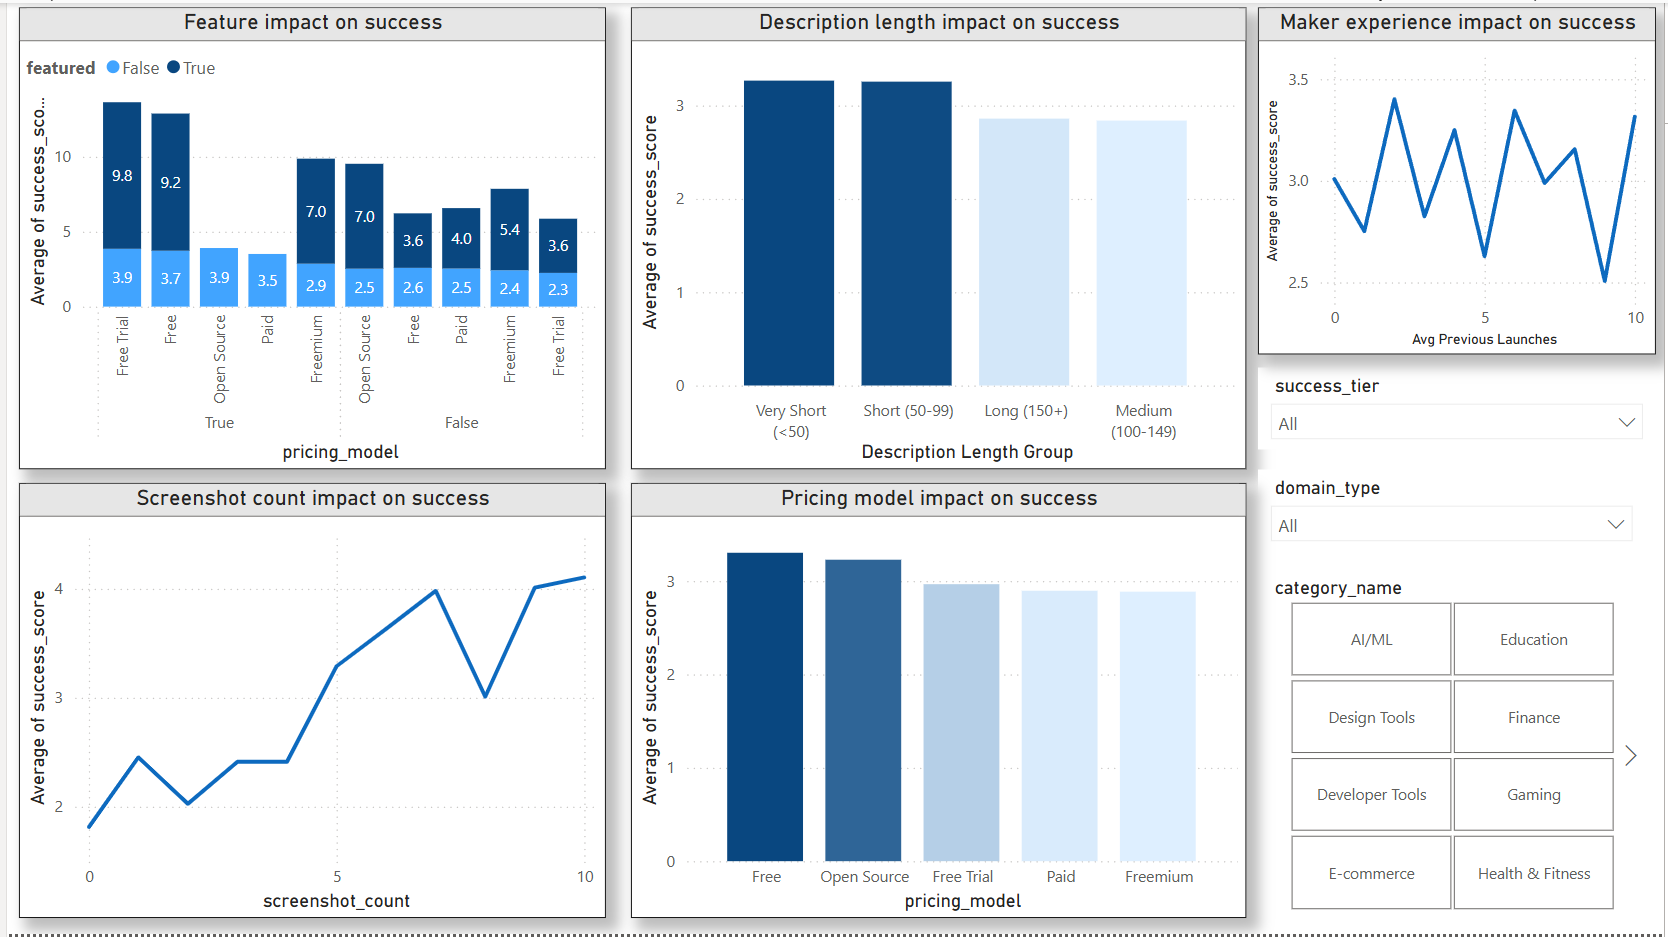

What the dashboard file says about the page in this screenshot:
{"tool":"powerbi","page":{"name":"CRITICAL SUCCESS FACTOR","canvas":[1280,720],"ordinal":2},"visuals":[{"type":"columnChart","title":"Feature impact on success","fields":{"Category":["success_factor.has_video","success_factor.pricing_model"],"Y":["Avg(success_factor.success_score)"],"Series":["success_factor.featured"]},"box":[9.3,3.5,453.1,356.9],"z":0},{"type":"clusteredColumnChart","title":"Description length impact on success","fields":{"Category":["success_factor.Description Length Group"],"Y":["Avg(success_factor.success_score)"]},"box":[482,3.5,475.1,356.9],"z":1000},{"type":"lineChart","title":"Screenshot count impact on success","fields":{"Y":["Avg(success_factor.success_score)"],"Category":["success_factor.screenshot_count"]},"box":[9.3,370.8,453.1,336],"z":2000},{"type":"slicer","fields":{"Values":["success_factor.category_name"]},"box":[966.6,437.8,299.1,58.6],"z":3000},{"type":"slicer","fields":{"Values":["success_factor.success_tier"]},"box":[966.6,281.1,307.4,63.4],"z":4000},{"type":"slicer","fields":{"Values":["success_factor.domain_type"]},"box":[966.6,360.1,299.1,55],"z":5000},{"type":"clusteredColumnChart","title":"Pricing model impact on success","fields":{"Category":["success_factor.pricing_model"],"Y":["Avg(success_factor.success_score)"]},"box":[482,370.8,475.1,336],"z":6000},{"type":"lineChart","title":"Maker experience impact on success","fields":{"Category":["maker_impact.Avg Previous Launches"],"Y":["Avg(maker_impact.success_score)"]},"box":[966.6,3.6,307.4,268],"z":7000},{"type":"textbox","box":[967,497,299,210],"z":8000}]}

Visuals, with their boxes in screenshot pixels (x1, y1, x2, y2), scaled from the page's 1280x720 canvas onto the 1668x937 screenshot:
"Feature impact on success" columnChart: locate(12, 5, 603, 469)
"Description length impact on success" clusteredColumnChart: locate(628, 5, 1247, 469)
"Screenshot count impact on success" lineChart: locate(12, 483, 603, 920)
slicer - success_factor.category_name: locate(1260, 570, 1649, 646)
slicer - success_factor.success_tier: locate(1260, 366, 1660, 448)
slicer - success_factor.domain_type: locate(1260, 469, 1649, 540)
"Pricing model impact on success" clusteredColumnChart: locate(628, 483, 1247, 920)
"Maker experience impact on success" lineChart: locate(1260, 5, 1660, 353)
textbox: locate(1260, 647, 1650, 920)
